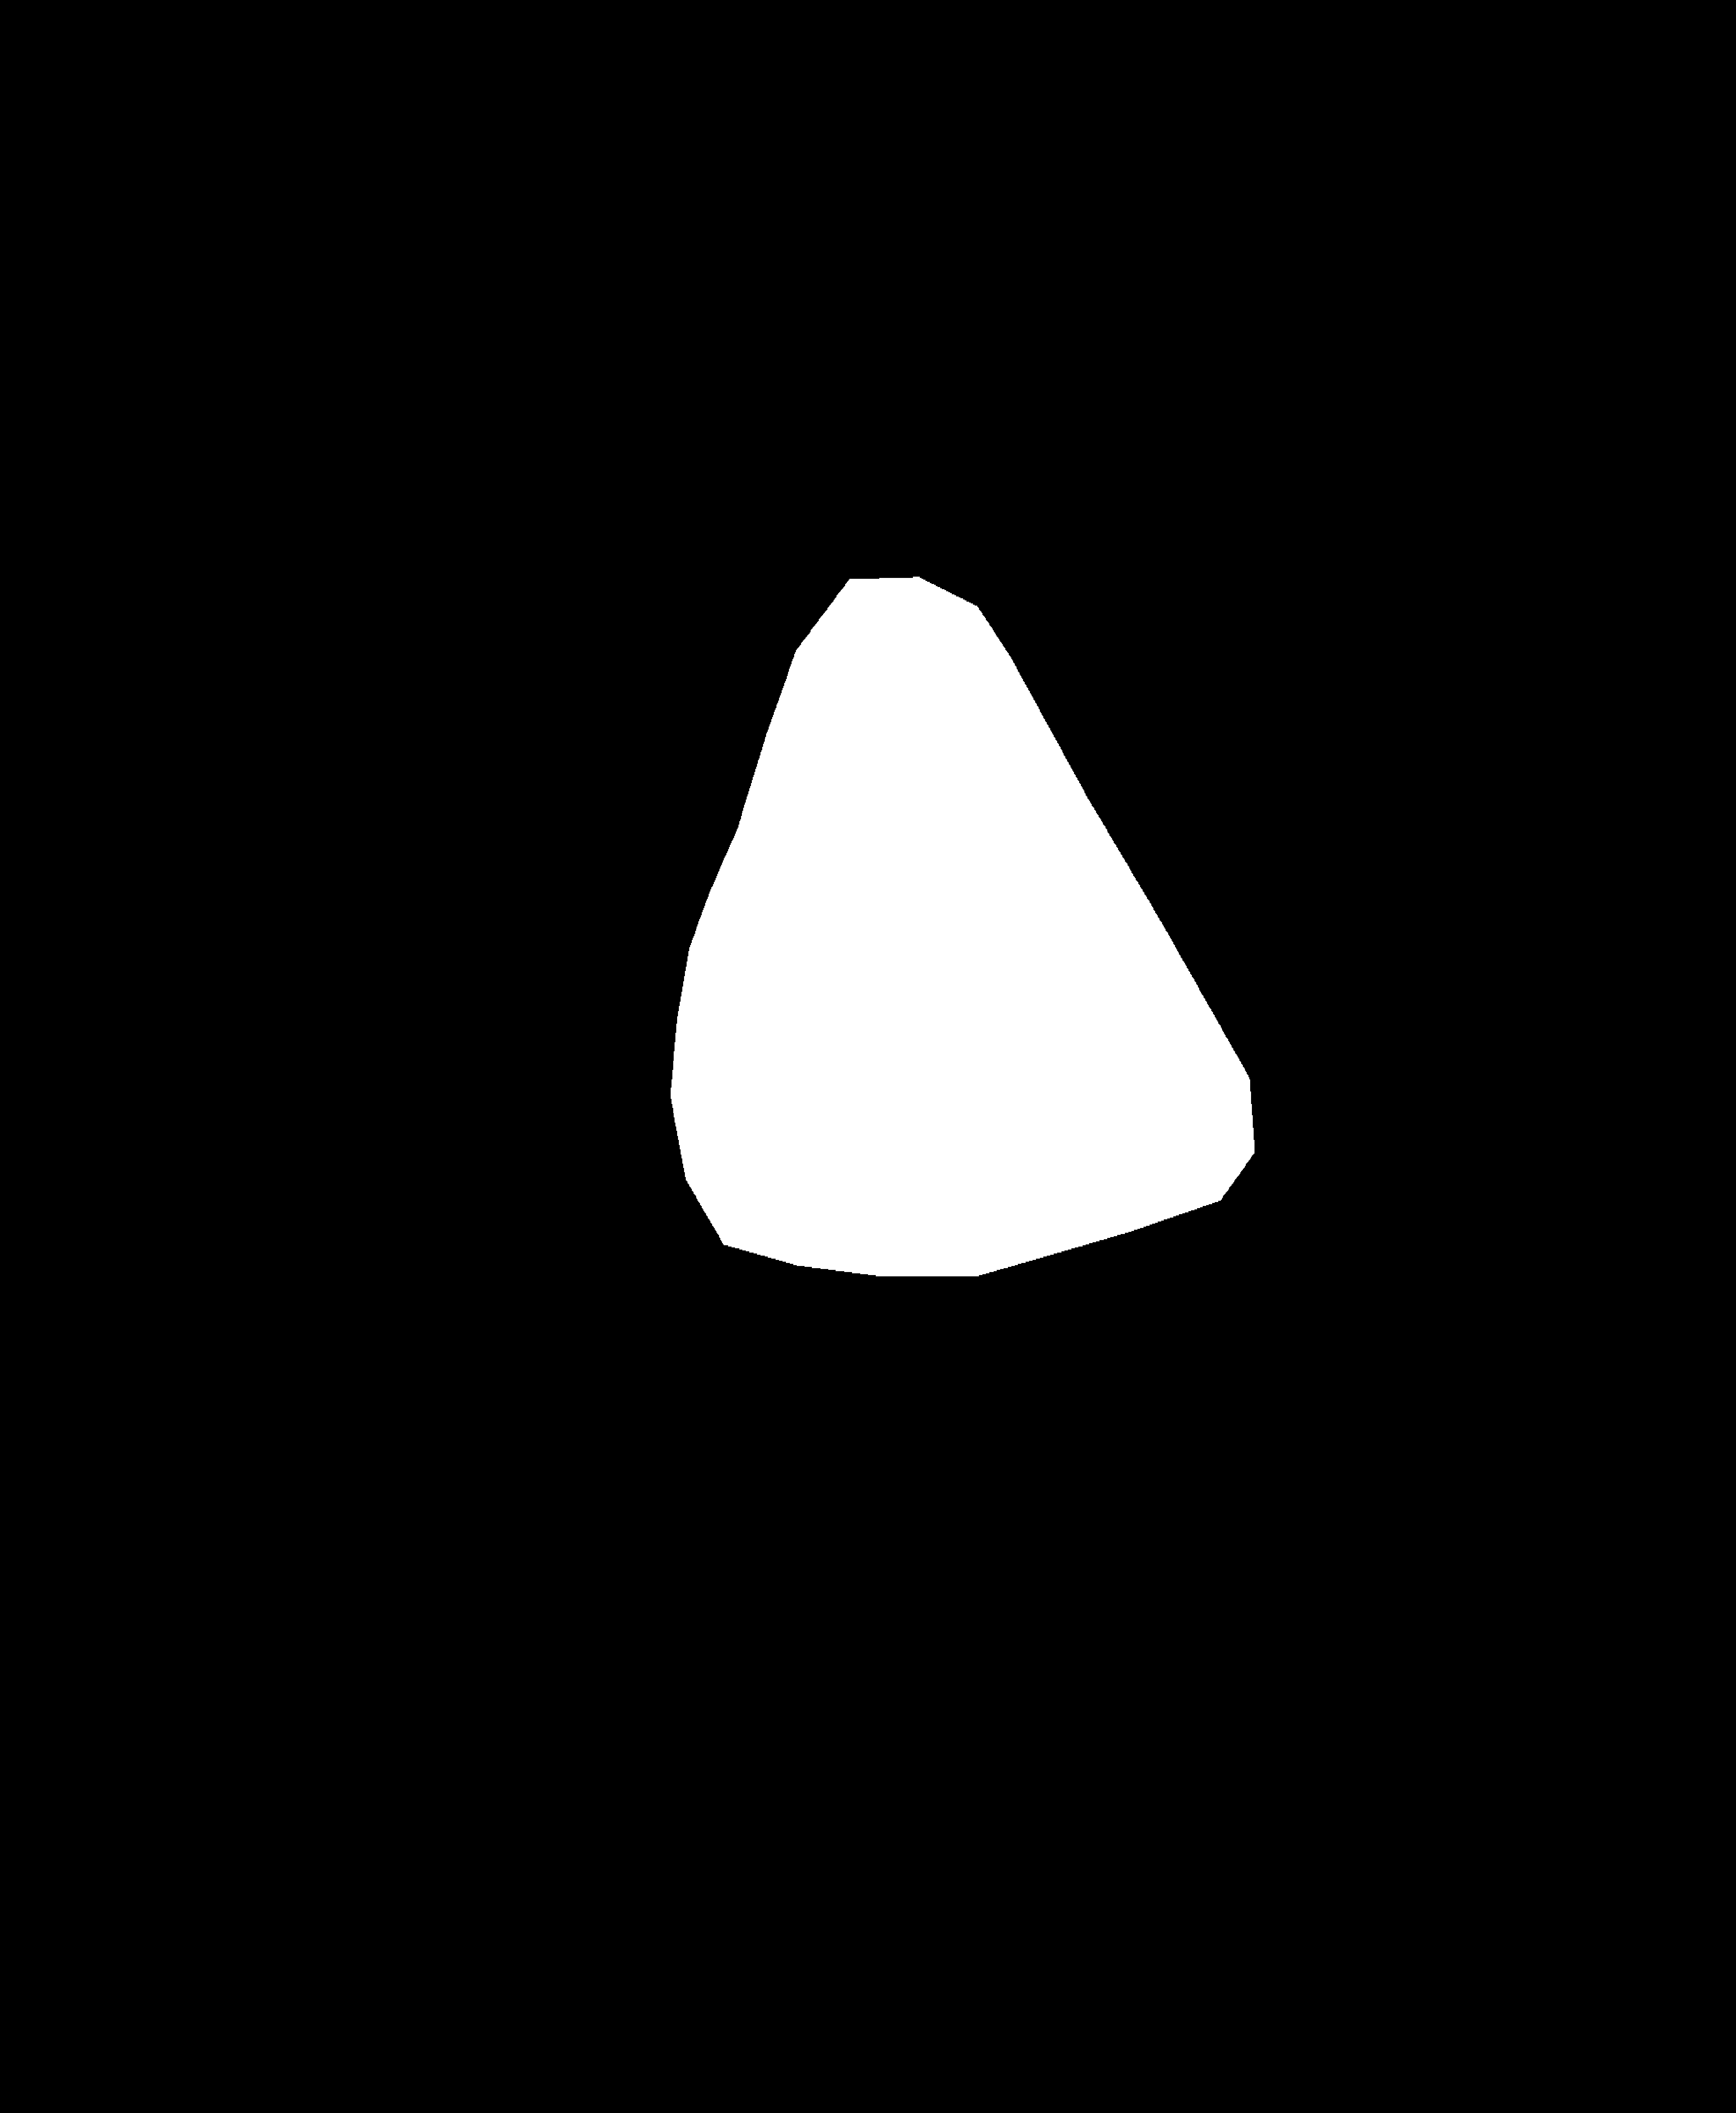heart: (660, 828, 1264, 1269)
left_lung: (169, 163, 813, 1471)
right_lung: (932, 158, 1487, 1253)
